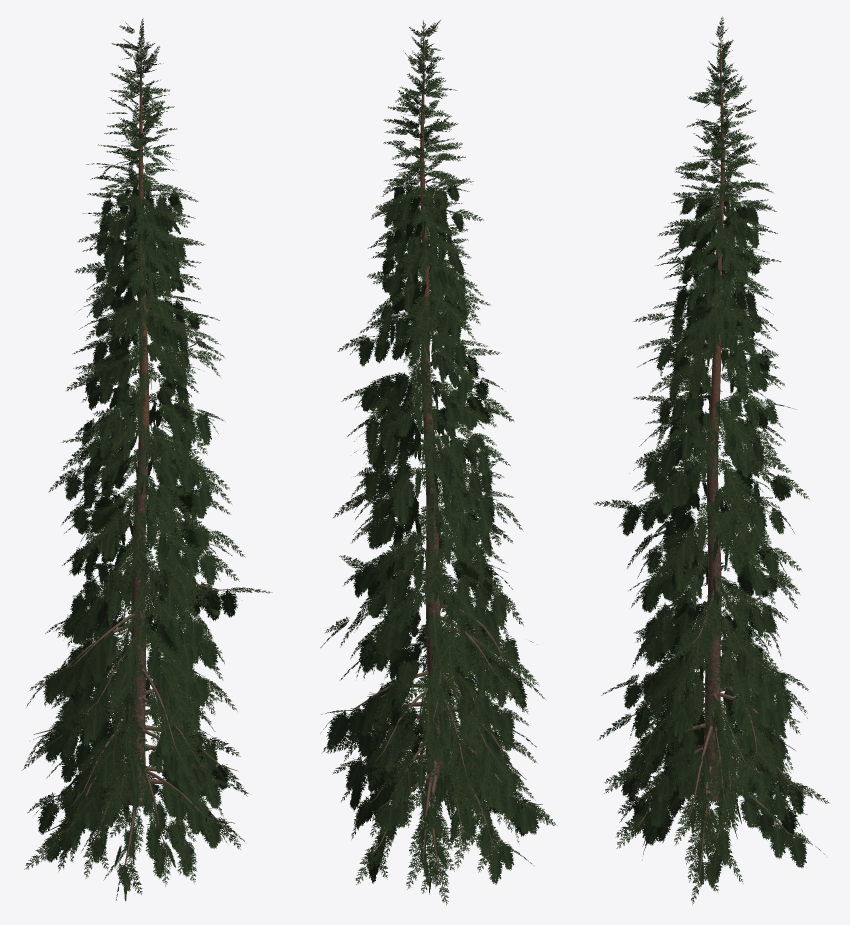
File: spruce_a_LOD0.fbx
3 views of the same model, side by side, from view 1: azimuth 30°, elevation 25°; view 2: azimuth 150°, elevation 25°; view 3: azimuth 270°, elevation 25° (orthographic).
Parts seen in each view (by area): view 1: Spruce_A_LOD0_Foliage, Spruce_A_LOD0_Bark; view 2: Spruce_A_LOD0_Foliage, Spruce_A_LOD0_Bark; view 3: Spruce_A_LOD0_Foliage, Spruce_A_LOD0_Bark.
Boxes of the visible parts, x1,y1,x2,y2 form: Spruce_A_LOD0_Foliage: (22, 18, 272, 901); Spruce_A_LOD0_Bark: (34, 20, 238, 878); Spruce_A_LOD0_Foliage: (320, 20, 556, 905); Spruce_A_LOD0_Bark: (336, 20, 542, 883); Spruce_A_LOD0_Foliage: (593, 16, 829, 904); Spruce_A_LOD0_Bark: (619, 32, 807, 879).
Bounding box in the file's own units: 8.31 × 28.87 × 7.56.
2 materials, 2 textured.
